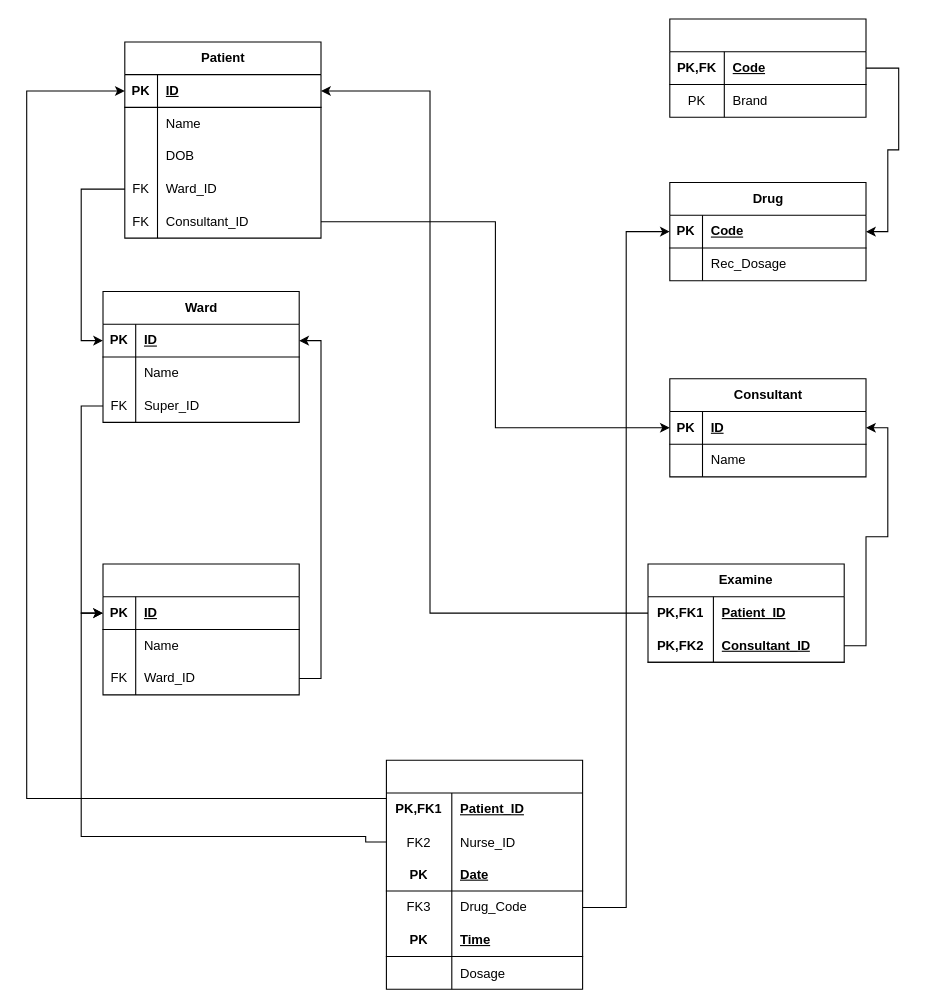
Some shapes in this 927 by 1008 pixel diagram are drawn without their labels. The box of each missing label's shape, as (x1, y1, x2, y2) in pixels:
Drug_Brand: (669, 18, 866, 117)
Gives: (385, 759, 583, 989)
Nurse: (102, 563, 299, 695)
